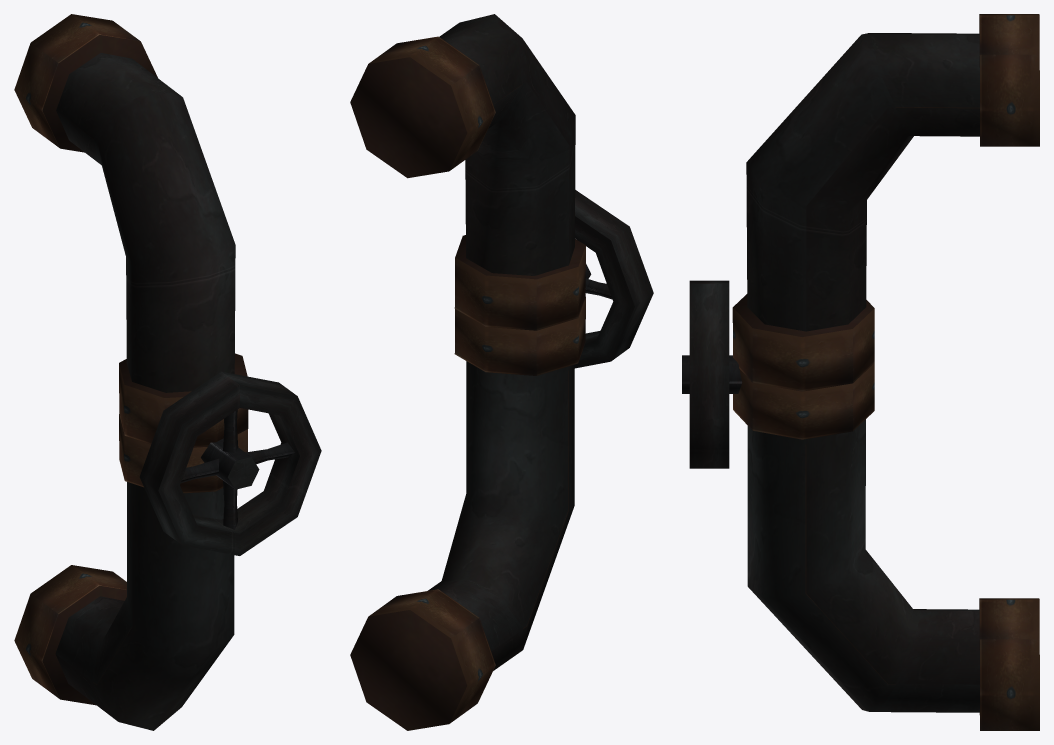
File: sewer_pipe001.FBX
The picture shows the model from 3 angles, left to right: view 1: azimuth 30°, elevation 25°; view 2: azimuth 150°, elevation 25°; view 3: azimuth 270°, elevation 25°; orthographic projection. The views are drawn at different scales.
Parts seen in each view (by area): view 1: sewer_pipe001; view 2: sewer_pipe001; view 3: sewer_pipe001.
Part boxes in pixels (x1,y1,x2,y2): sewer_pipe001: (14,14,321,730); sewer_pipe001: (350,14,653,730); sewer_pipe001: (682,14,1039,730).
Bounding box in the file's own units: 217 × 854 × 389.
